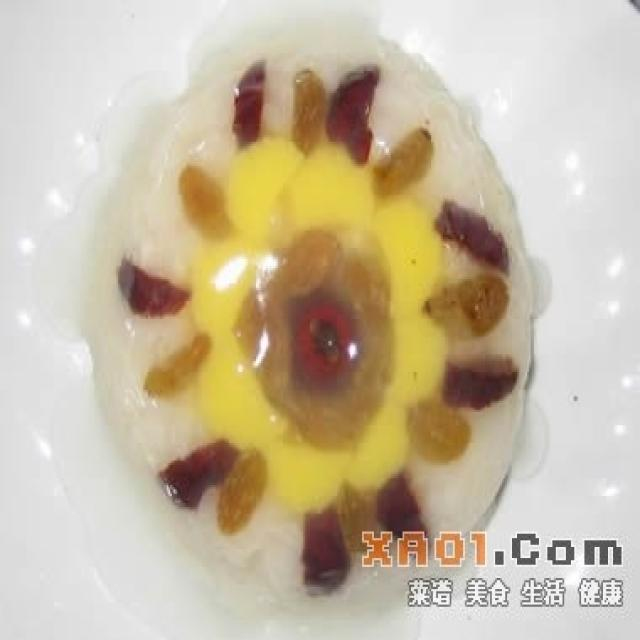米饭主食: (57, 20, 578, 609)
